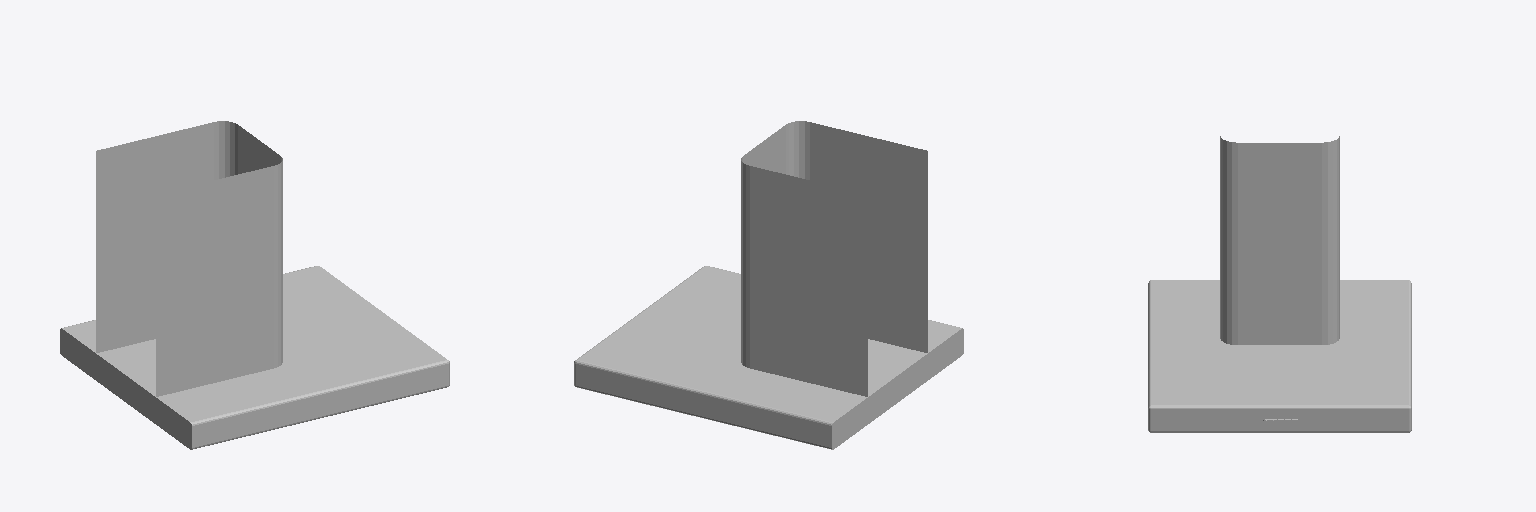
The model's file is Coifa_do_Forna.obj.
3 renders of one model, left to right at view 1: azimuth 30°, elevation 25°; view 2: azimuth 150°, elevation 25°; view 3: azimuth 270°, elevation 25°, orthographic.
Parts seen in each view (by area): view 1: black_square_canopy:Mesh; view 2: black_square_canopy:Mesh; view 3: black_square_canopy:Mesh.
Boxes of the visible parts, box(x1,y1,x2,y2) form: black_square_canopy:Mesh: box(60, 121, 449, 449); black_square_canopy:Mesh: box(574, 121, 963, 449); black_square_canopy:Mesh: box(1148, 136, 1411, 432).
Size of the model in its own units: 2.27 by 1.92 by 1.99.